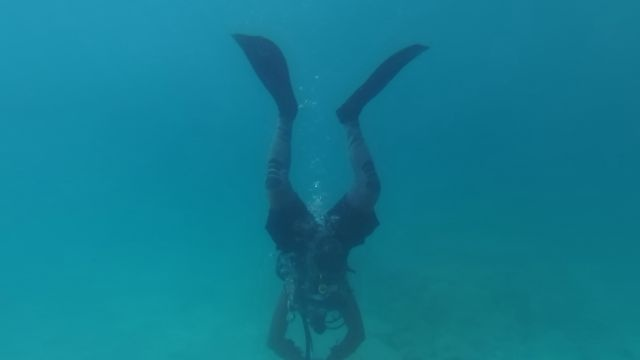Diver: (225, 24, 432, 359)
